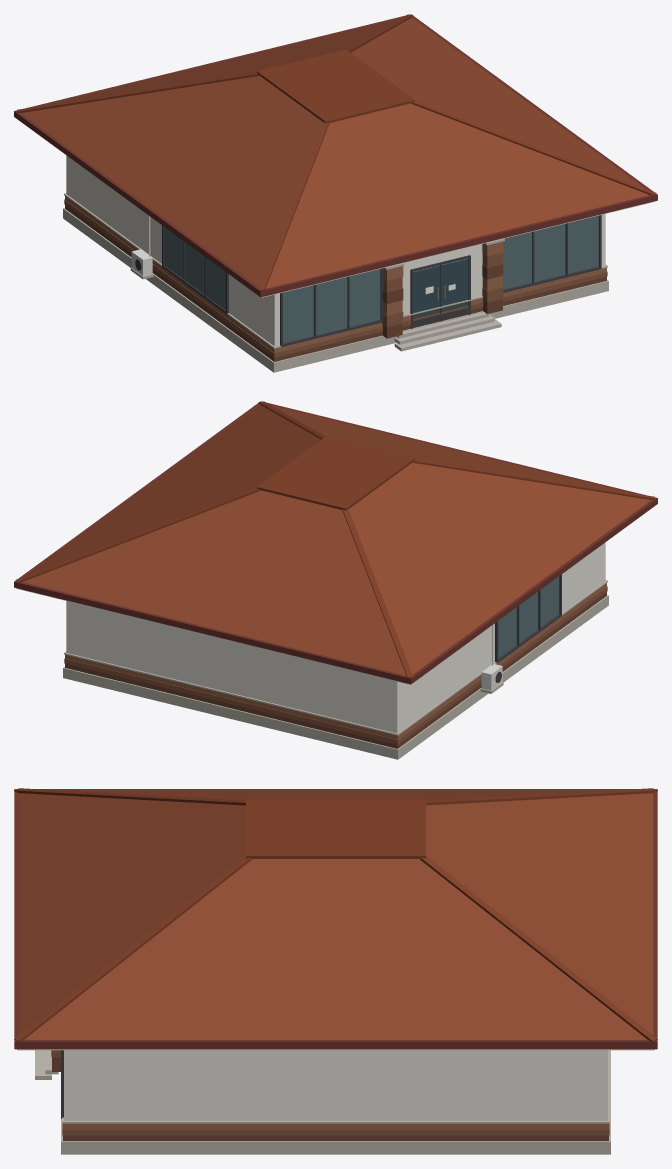
Rendered from amad_building.glb.
3 renders of one model, top to bottom at view 1: azimuth 30°, elevation 25°; view 2: azimuth 150°, elevation 25°; view 3: azimuth 270°, elevation 25°, orthographic. The views are drawn at different scales.
Parts seen in each view (by area): view 1: AMAD_Roof_Tiles, Mesh_Mat_AMAD_Wall, Mesh_Mat_AMAD_MirrorGlass, Mesh_Mat_AMAD_RoofRidge, Mesh_Mat_AMAD_StoneCap, AMAD_Roof_Fascia, Mesh_Mat_AMAD_DarkFrame, Mesh_Mat_AMAD_StoneMid, Mesh_Mat_AMAD_StoneDark, Mesh_Mat_AMAD_StoneLight, Mesh_Mat_AMAD_DoorMirror; view 2: AMAD_Roof_Tiles, Mesh_Mat_AMAD_Wall, Mesh_Mat_AMAD_RoofRidge, Mesh_Mat_AMAD_StoneCap, AMAD_Roof_Fascia, Mesh_Mat_AMAD_StoneMid, Mesh_Mat_AMAD_StoneDark, Mesh_Mat_AMAD_StoneLight, Mesh_Mat_AMAD_MirrorGlass, Mesh_Mat_AMAD_DarkFrame; view 3: AMAD_Roof_Tiles, Mesh_Mat_AMAD_Wall, Mesh_Mat_AMAD_RoofRidge, Mesh_Mat_AMAD_StoneCap, AMAD_Roof_Fascia, Mesh_Mat_AMAD_StoneMid, Mesh_Mat_AMAD_StoneDark, Mesh_Mat_AMAD_StoneLight, AMAD_Roof_Soffit.
Part boxes in pixels (box(x1,y1,x2,y2)): AMAD_Roof_Tiles: box(21, 18, 649, 288); Mesh_Mat_AMAD_Wall: box(66, 155, 605, 346); Mesh_Mat_AMAD_MirrorGlass: box(164, 215, 598, 343); Mesh_Mat_AMAD_RoofRidge: box(15, 14, 655, 290); Mesh_Mat_AMAD_StoneCap: box(63, 193, 608, 372); AMAD_Roof_Fascia: box(14, 14, 657, 297); Mesh_Mat_AMAD_DarkFrame: box(135, 215, 601, 346); Mesh_Mat_AMAD_StoneMid: box(64, 199, 607, 357); Mesh_Mat_AMAD_StoneDark: box(65, 205, 606, 361); Mesh_Mat_AMAD_StoneLight: box(65, 196, 606, 352); Mesh_Mat_AMAD_DoorMirror: box(413, 258, 468, 318); AMAD_Roof_Tiles: box(22, 405, 650, 675); Mesh_Mat_AMAD_Wall: box(66, 542, 605, 733); Mesh_Mat_AMAD_RoofRidge: box(16, 401, 656, 677); Mesh_Mat_AMAD_StoneCap: box(63, 580, 608, 759); AMAD_Roof_Fascia: box(14, 401, 657, 684); Mesh_Mat_AMAD_StoneMid: box(64, 586, 607, 744); Mesh_Mat_AMAD_StoneDark: box(65, 592, 606, 748); Mesh_Mat_AMAD_StoneLight: box(65, 583, 606, 739); Mesh_Mat_AMAD_MirrorGlass: box(498, 576, 559, 658); Mesh_Mat_AMAD_DarkFrame: box(495, 574, 561, 682); AMAD_Roof_Tiles: box(18, 791, 653, 1039); Mesh_Mat_AMAD_Wall: box(64, 1050, 607, 1120); Mesh_Mat_AMAD_RoofRidge: box(14, 788, 657, 1041); Mesh_Mat_AMAD_StoneCap: box(35, 1050, 610, 1154); AMAD_Roof_Fascia: box(14, 789, 657, 1049); Mesh_Mat_AMAD_StoneMid: box(51, 1050, 609, 1135); Mesh_Mat_AMAD_StoneDark: box(52, 1057, 608, 1140); Mesh_Mat_AMAD_StoneLight: box(63, 1123, 608, 1128); AMAD_Roof_Soffit: box(17, 1049, 654, 1050).
Size of the model in its own units: 15.86 by 6.45 by 17.06.
